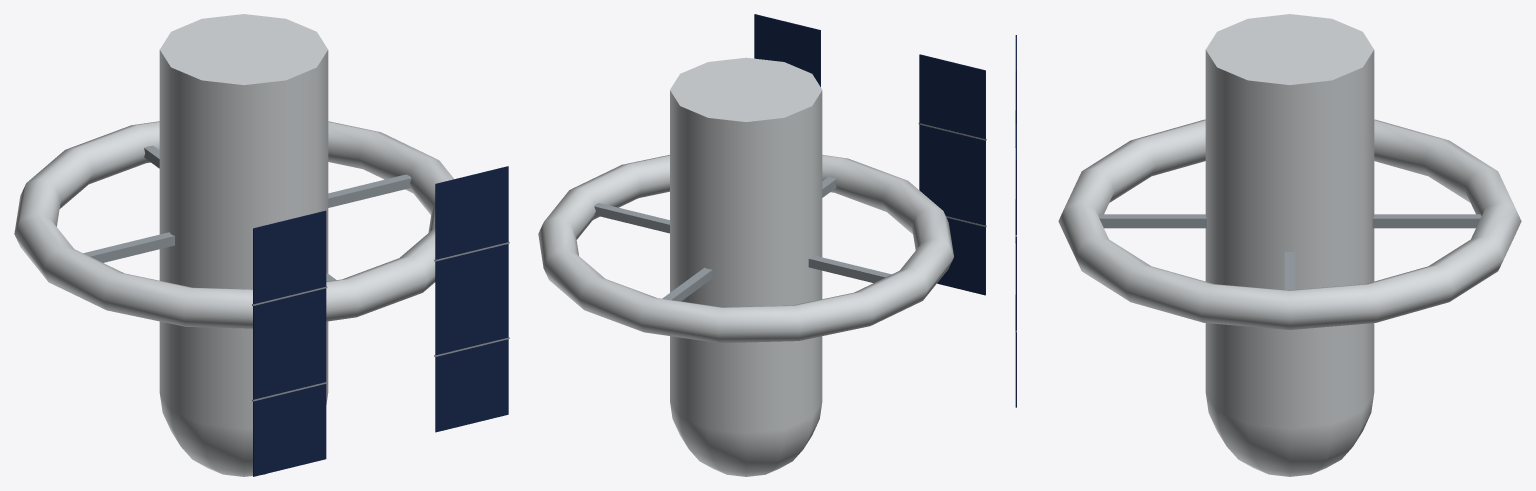
The model's file is space_orbital_station_t2.glb.
The picture shows the model from 3 angles, left to right: view 1: azimuth 30°, elevation 25°; view 2: azimuth 150°, elevation 25°; view 3: azimuth 270°, elevation 25°; orthographic projection. The views are drawn at different scales.
Visible parts, largest first — view 1: body, ring, solar_0, solar_1, solar_2, solar_3; view 2: body, ring, solar_3, solar_1, solar_2; view 3: body, ring.
Boxes of the visible parts, x1,y1,x2,y2 form: body: (159, 14, 328, 476); ring: (14, 121, 453, 328); solar_0: (434, 262, 509, 432); solar_1: (252, 306, 327, 476); solar_2: (434, 166, 509, 336); solar_3: (252, 210, 327, 380); body: (670, 57, 822, 476); ring: (538, 155, 953, 343); solar_3: (918, 54, 986, 208); solar_1: (919, 141, 986, 295); solar_2: (754, 14, 820, 86); body: (1205, 14, 1374, 476); ring: (1058, 119, 1521, 329).
Size of what is drawn, in the model's own units: 22 by 22 by 24.04.
